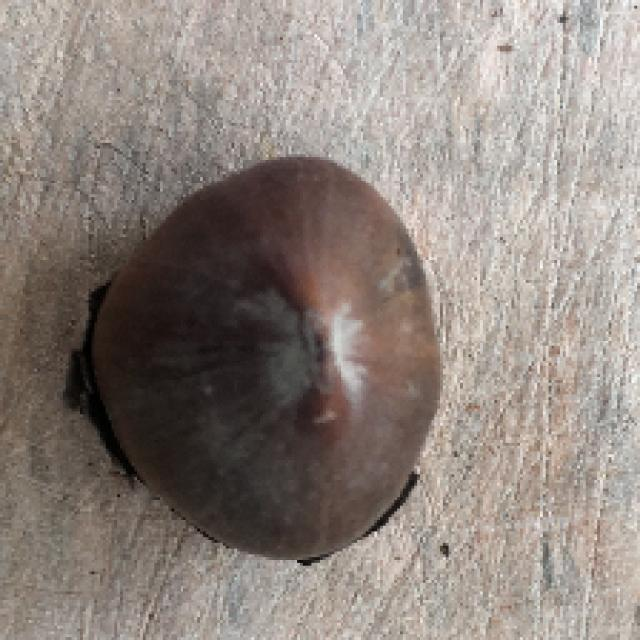damagedHazelnut: (57, 156, 444, 561)
